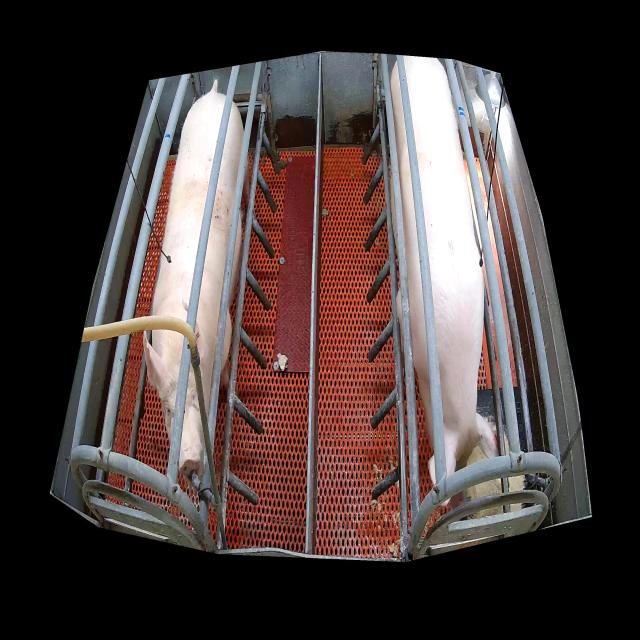pig: (390, 56, 499, 484), (144, 92, 251, 492)
